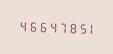eight: (67, 20, 76, 34)
five: (77, 20, 86, 35)
four: (17, 18, 26, 32), (47, 19, 56, 33)
one: (87, 21, 96, 35)
seven: (57, 20, 66, 34)
six: (27, 18, 36, 33), (37, 19, 46, 33)
